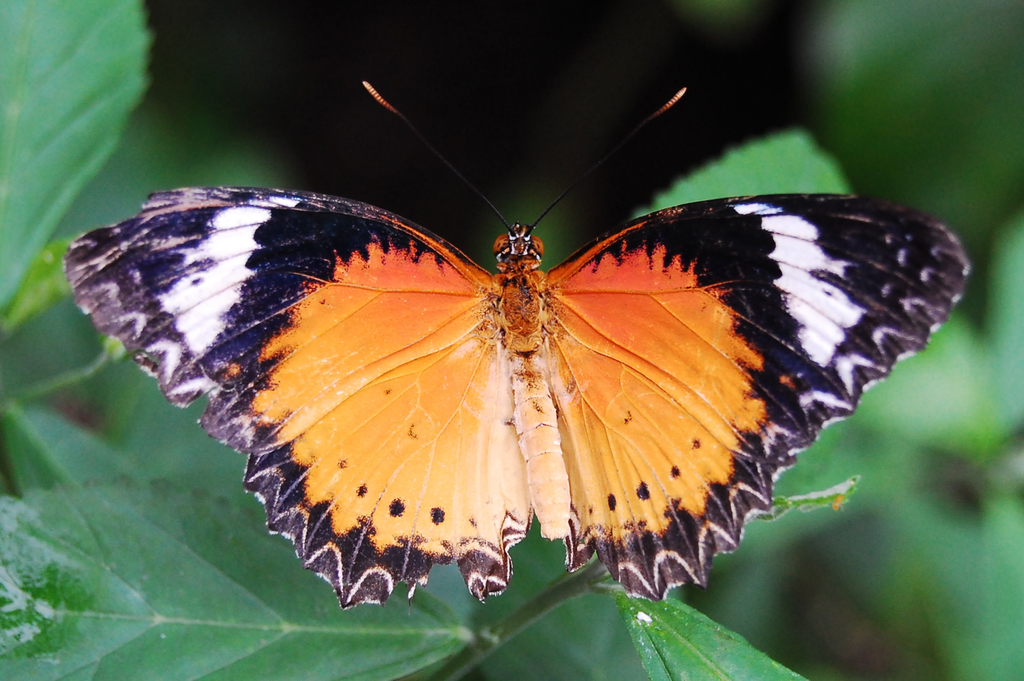Butterfly: (53, 145, 982, 639)
